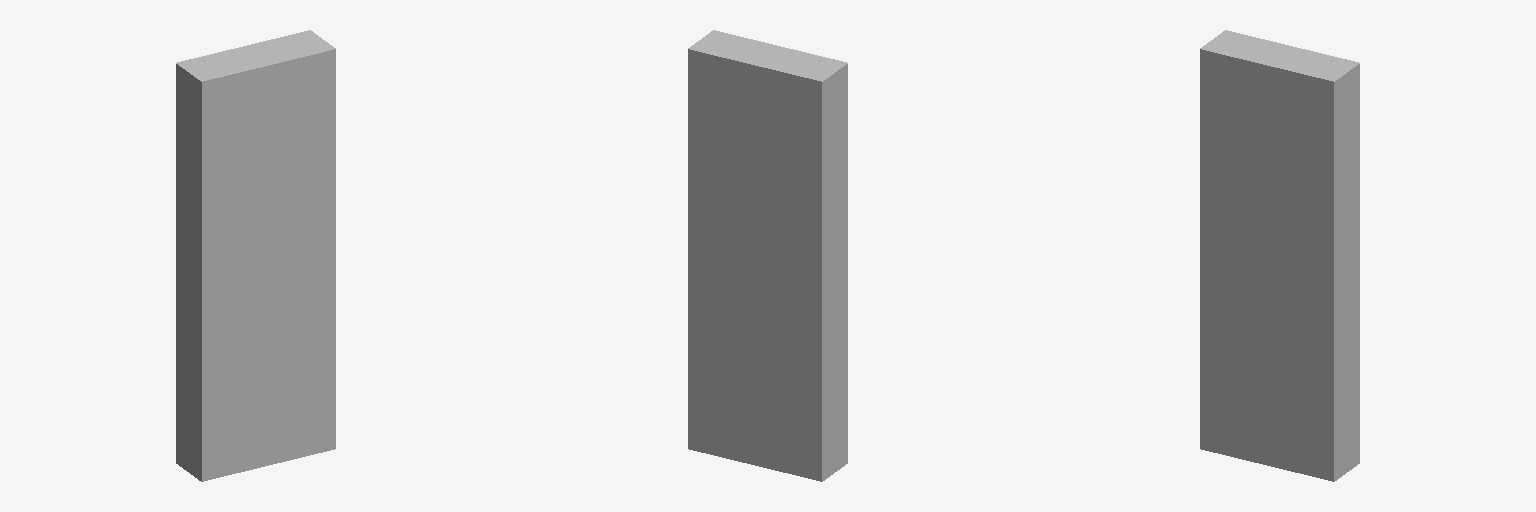
The model's file is down_floor.obj.
The picture shows the model from 3 angles: view 1: azimuth 30°, elevation 25°; view 2: azimuth 150°, elevation 25°; view 3: azimuth 330°, elevation 25°; orthographic projection.
Bounding box in the file's own units: 960 × 2720 × 320.